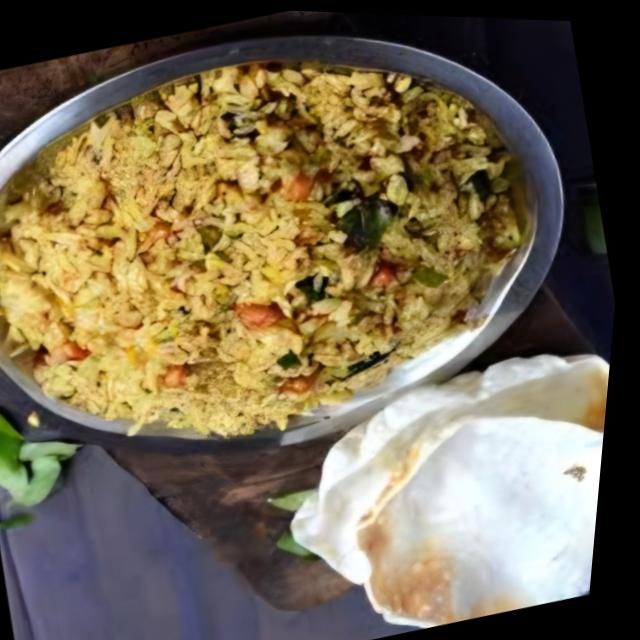PAPADAM: (284, 353, 609, 624)
RICE: (0, 66, 513, 429)
